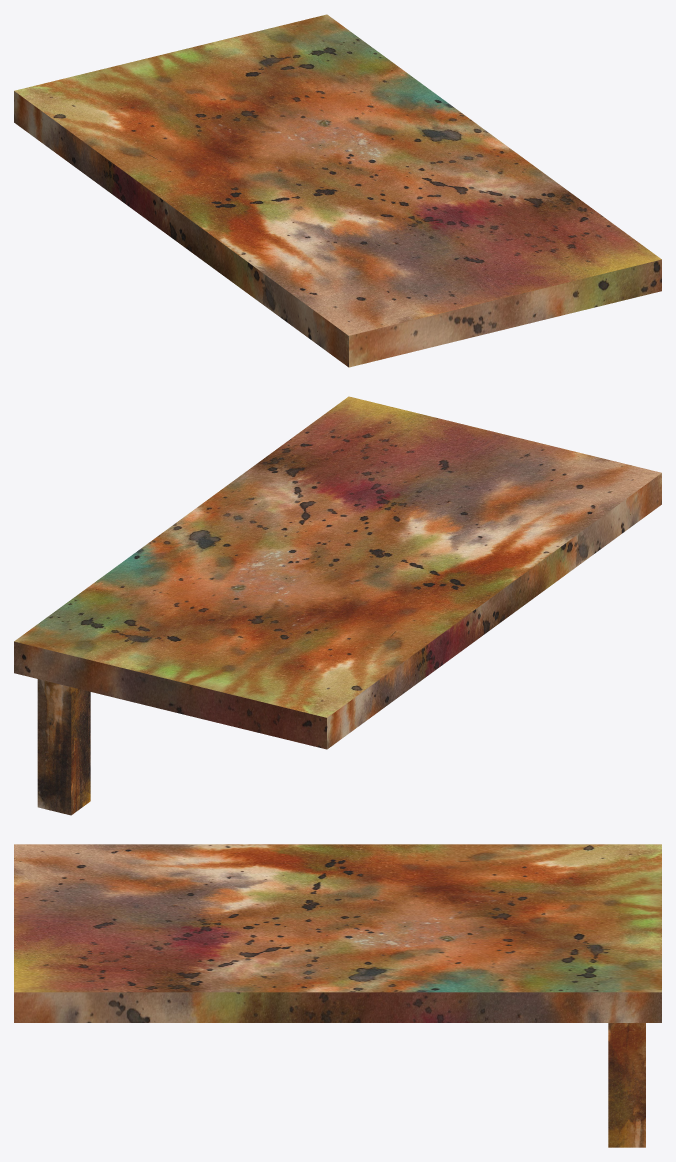
The model's file is table.glb.
3 renders of one model, top to bottom at view 1: azimuth 30°, elevation 25°; view 2: azimuth 150°, elevation 25°; view 3: azimuth 270°, elevation 25°, orthographic. The views are drawn at different scales.
Parts seen in each view (by area): view 1: Cube; view 2: Cube, Cube.001; view 3: Cube, Cube.001.
Boxes of the visible parts, x1,y1,x2,y2 form: Cube: (14, 14, 661, 367); Cube: (14, 396, 661, 749); Cube.001: (37, 679, 90, 815); Cube: (14, 844, 661, 1022); Cube.001: (608, 1023, 645, 1147).
Size of the model in its own units: 4.68 by 2.4 by 8.67.
2 materials, 2 textured.
